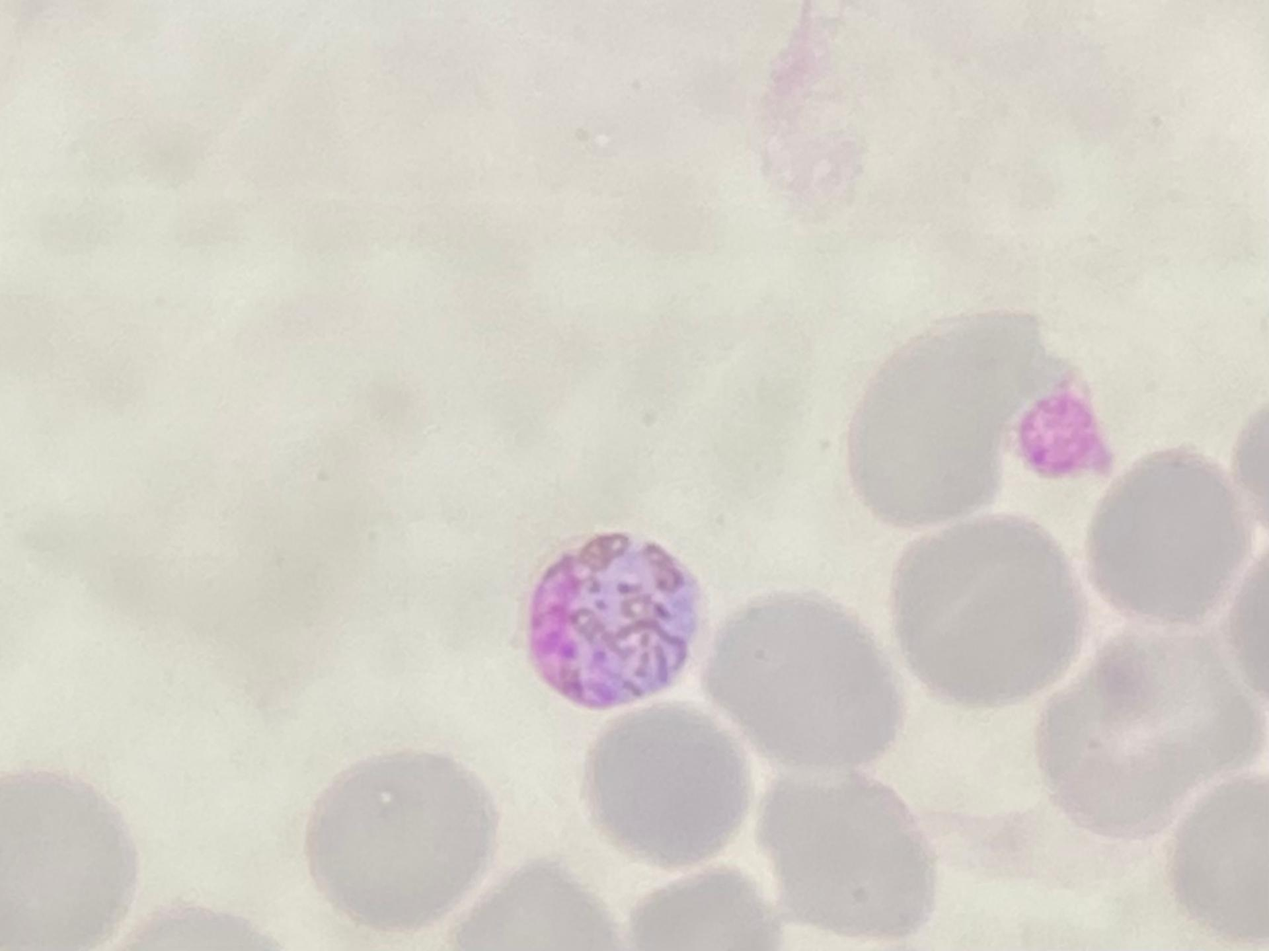Infected: (529, 521, 701, 708)
Uninfected: (1049, 626, 1269, 822), (855, 309, 1041, 521), (304, 745, 502, 935), (707, 587, 906, 774), (892, 516, 1081, 709), (753, 776, 930, 950), (1088, 448, 1246, 630), (588, 699, 746, 871), (0, 767, 126, 951)
